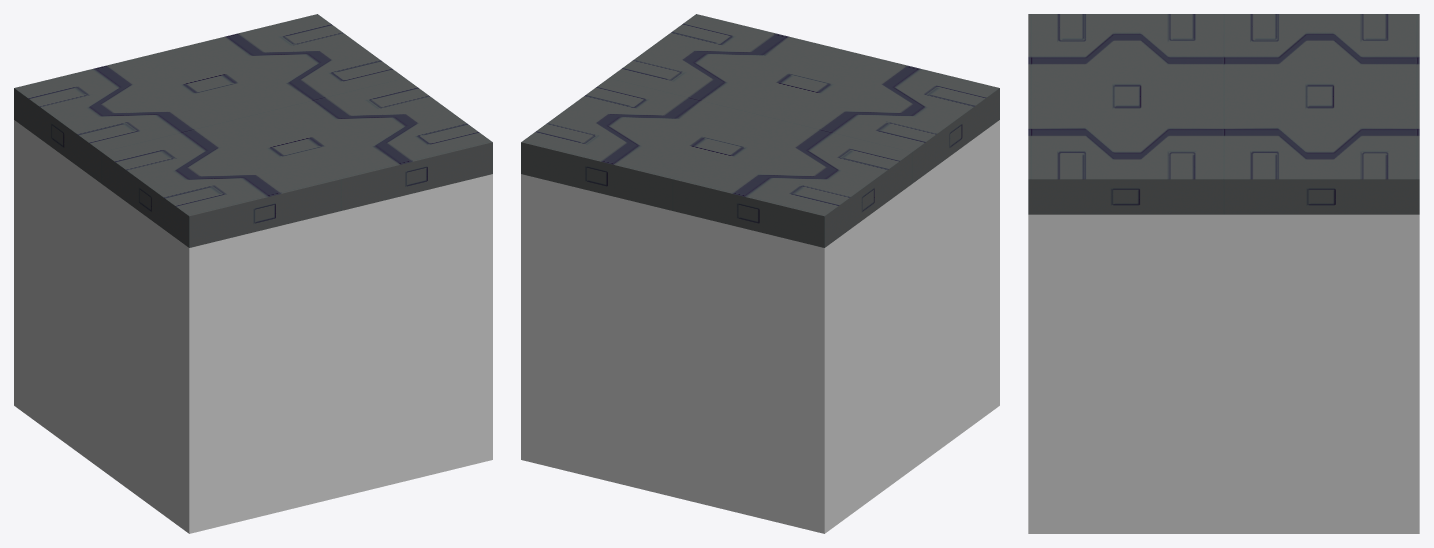
File: lab_floor.glb
The picture shows the model from 3 angles, left to right: view 1: azimuth 30°, elevation 25°; view 2: azimuth 150°, elevation 25°; view 3: azimuth 270°, elevation 25°; orthographic projection. The views are drawn at different scales.
Visible parts, largest first — view 1: Floor_Base.001; view 2: Floor_Base.001; view 3: Floor_Base.001.
Boxes of the visible parts, left/top/right/bottom form: Floor_Base.001: left=14, top=14, right=492, bottom=533; Floor_Base.001: left=521, top=14, right=999, bottom=533; Floor_Base.001: left=1028, top=14, right=1419, bottom=533.
Size of the model in its own units: 2 by 2 by 2.
2 materials, 1 textured.
